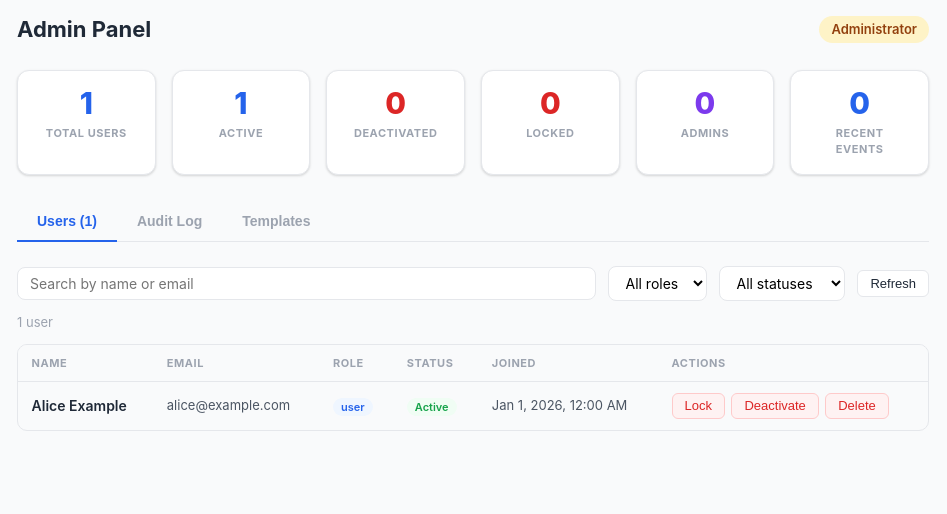
AdminPanel users tab actions › locks a user after confirming minutes
Click the button "Lock". click: (698, 406)
box: [672,392,725,419]
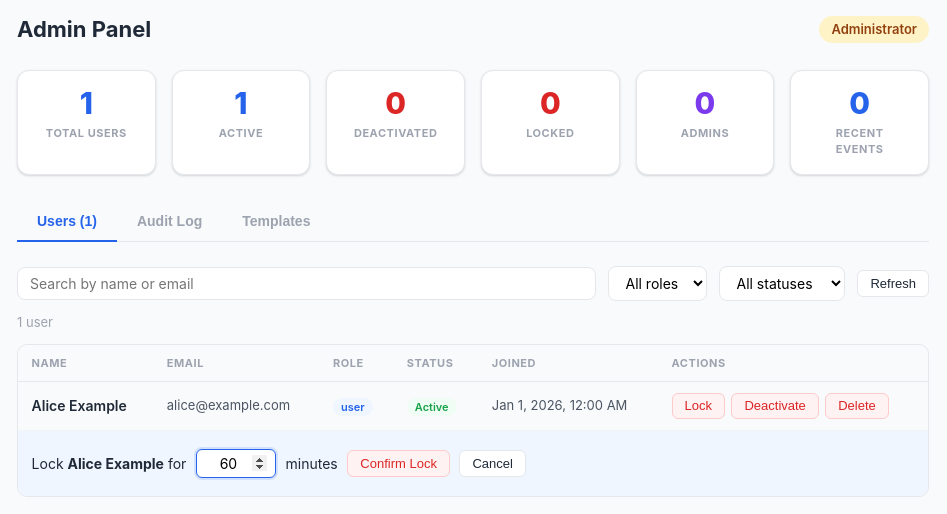
Click the button "Confirm Lock". click: (399, 463)
box: [347,450,450,476]
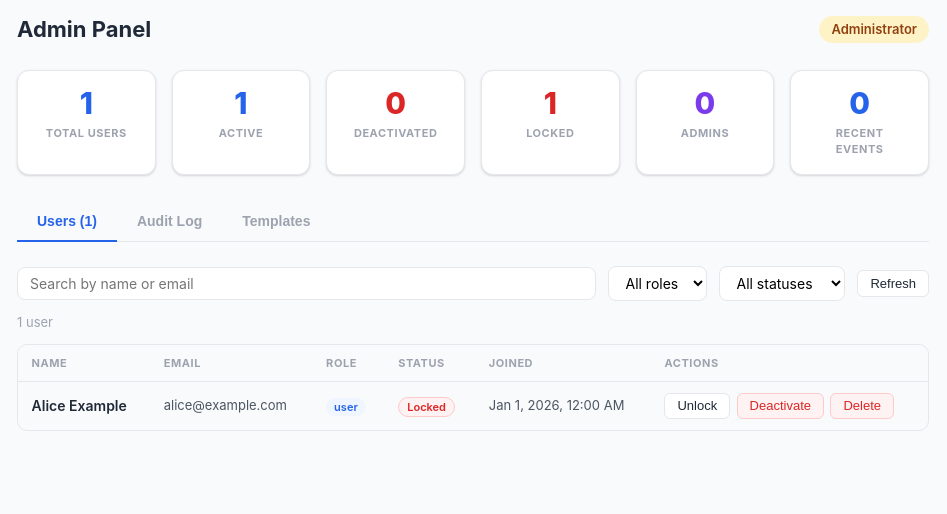
Result: the button "Unlock" is shown at [664,392,730,419]
